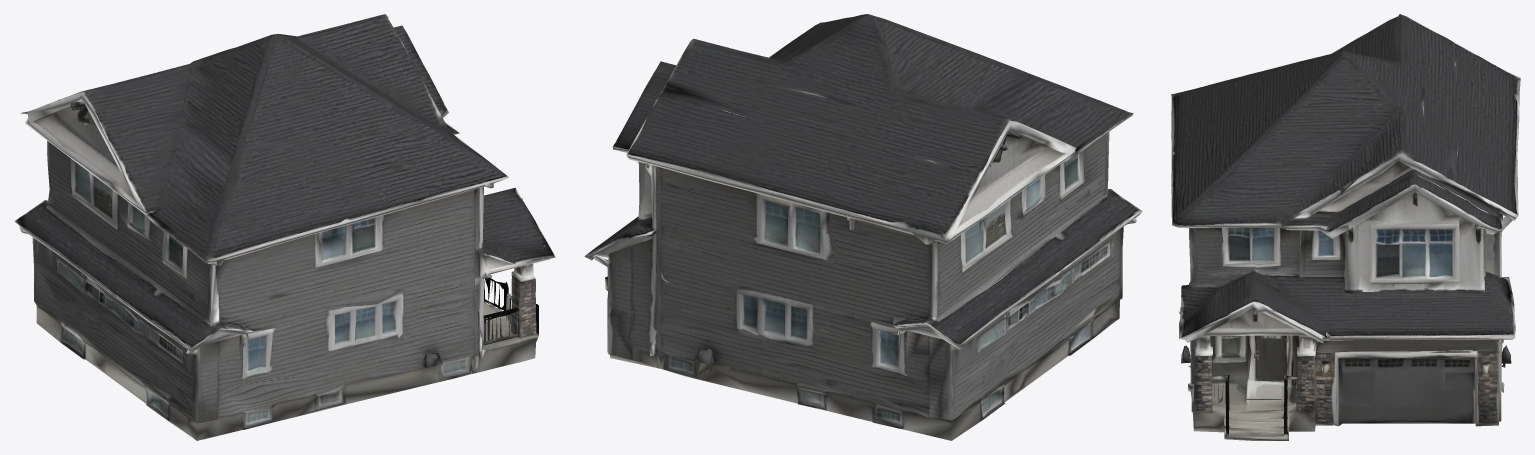
File: lod_house_porch.glb
3 renders of one model, left to right at view 1: azimuth 30°, elevation 25°; view 2: azimuth 150°, elevation 25°; view 3: azimuth 270°, elevation 25°, orthographic. The views are drawn at different scales.
Visible parts, largest first — view 1: tripo_node_0272daed-87c3-4b4a-827b-6cc87dc0376b; view 2: tripo_node_0272daed-87c3-4b4a-827b-6cc87dc0376b; view 3: tripo_node_0272daed-87c3-4b4a-827b-6cc87dc0376b.
Part boxes in pixels (x1,y1,x2,y2): tripo_node_0272daed-87c3-4b4a-827b-6cc87dc0376b: (14, 14, 555, 440); tripo_node_0272daed-87c3-4b4a-827b-6cc87dc0376b: (584, 14, 1142, 440); tripo_node_0272daed-87c3-4b4a-827b-6cc87dc0376b: (1171, 14, 1520, 440).
Size of the model in its own units: 1 by 0.7888 by 0.846.
Materials: 1 (1 with a texture image).
